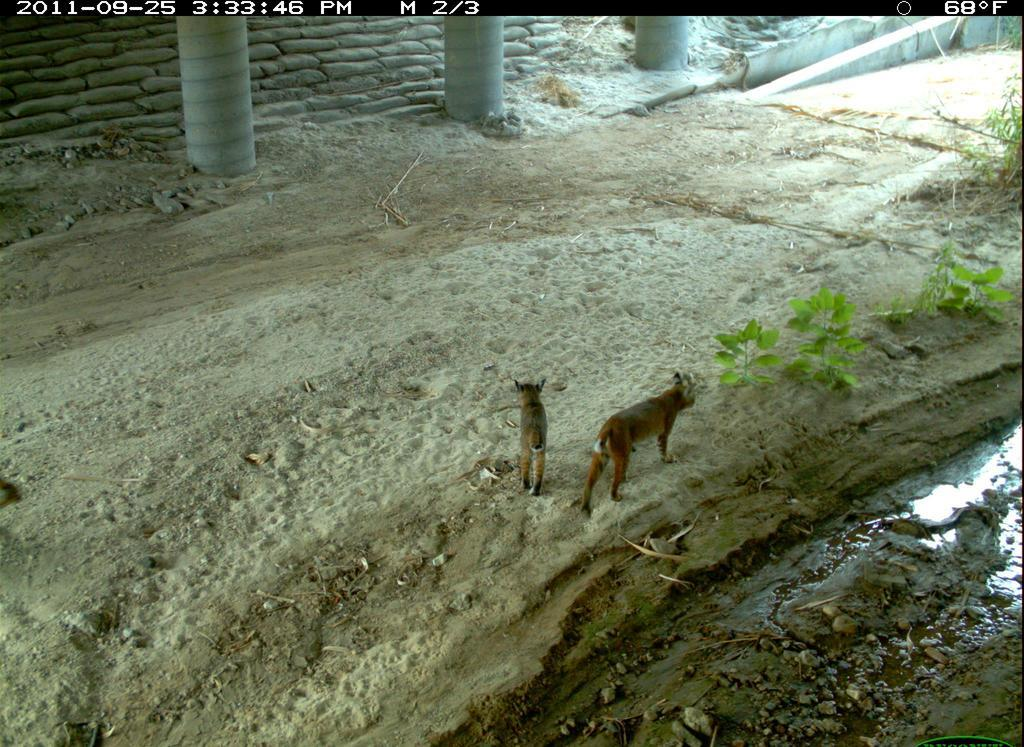bobcat: (570, 358, 720, 518), (504, 369, 557, 509)
